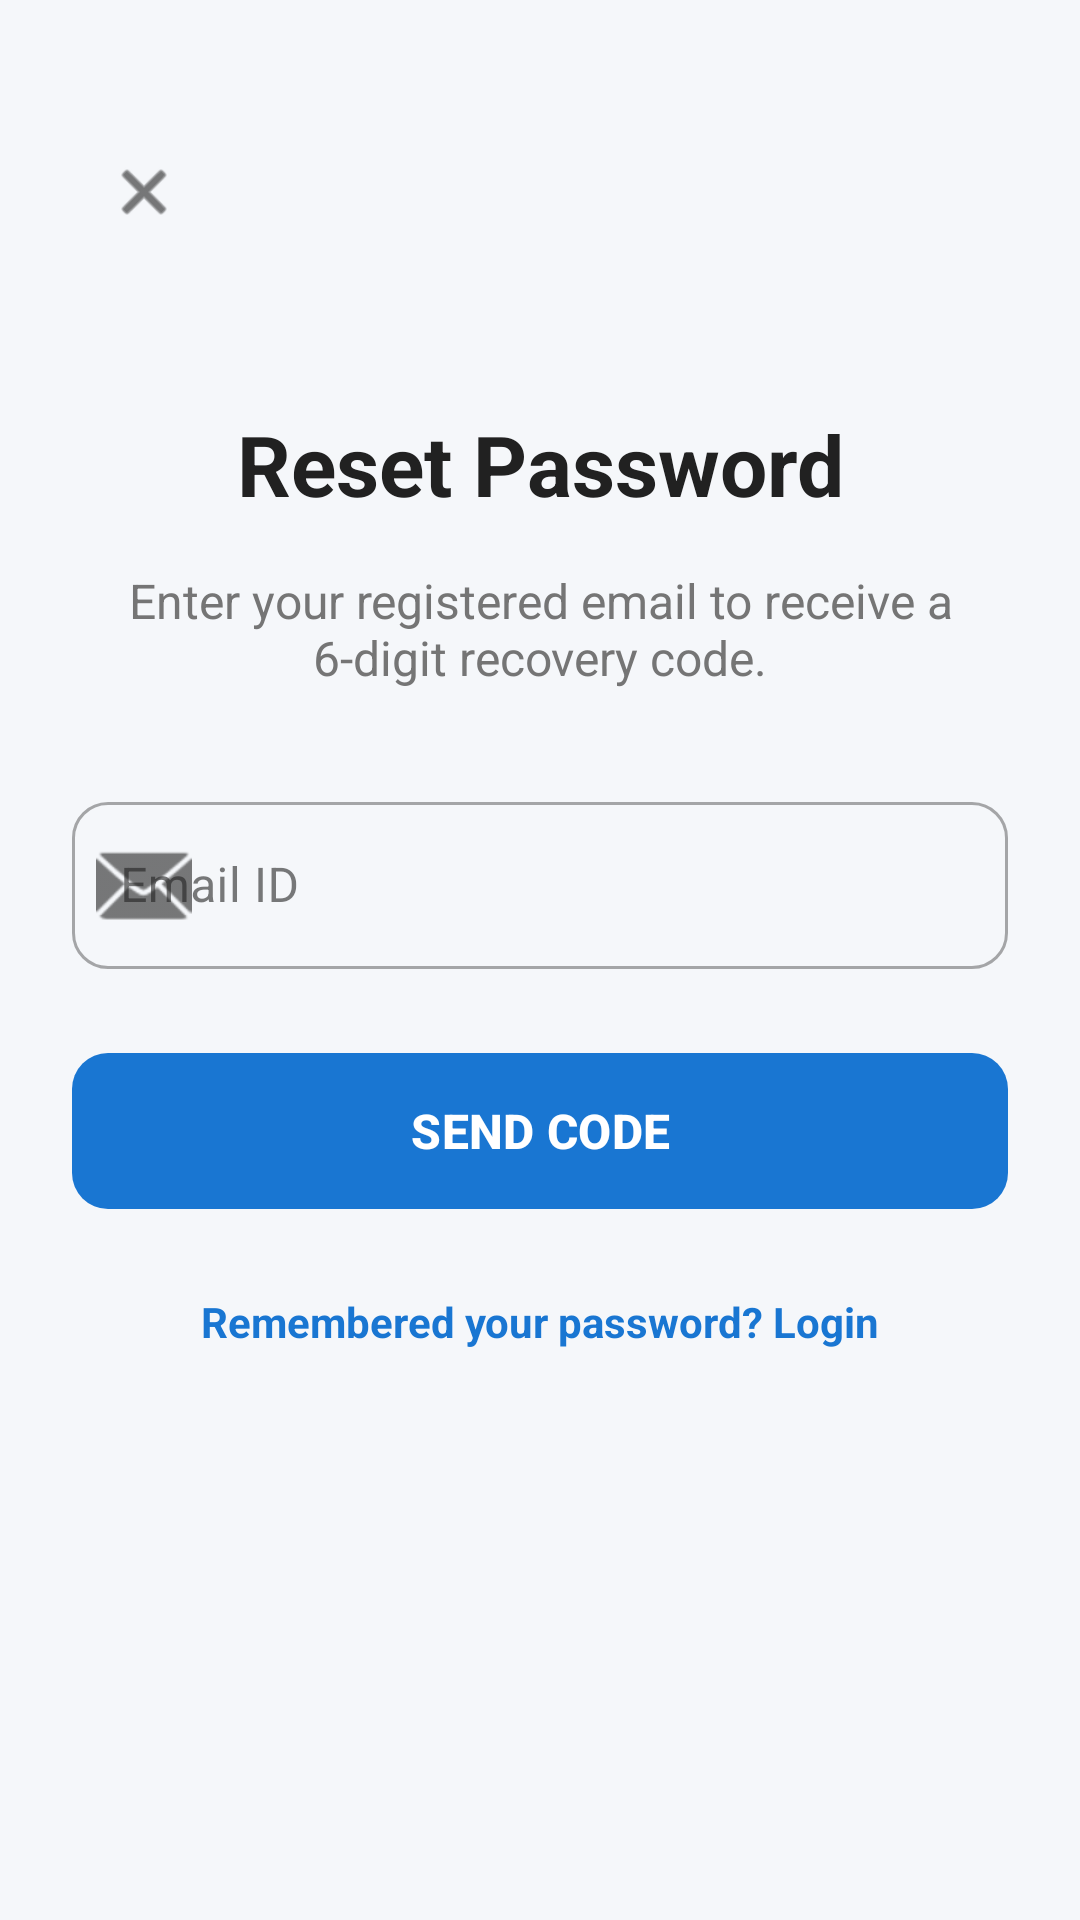

Icon click points for this 1080px×1920px phone screenshot, format (x=x, y=y):
close clear cancel: (x=144, y=192)
